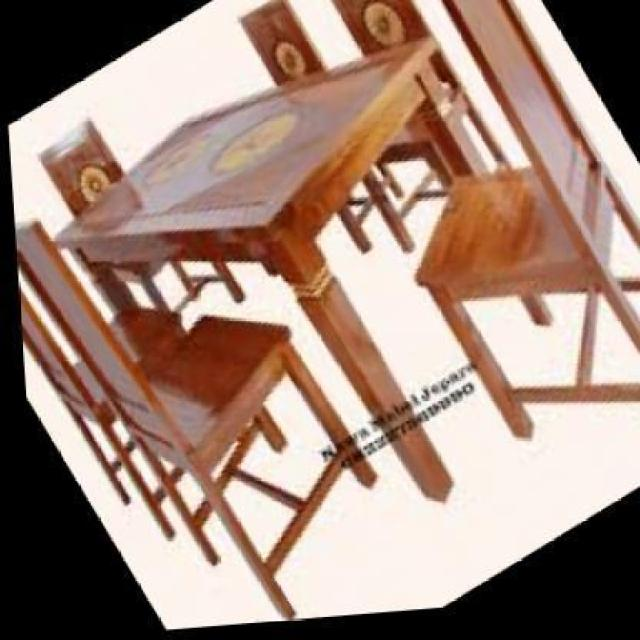tables: (49, 33, 462, 504)
